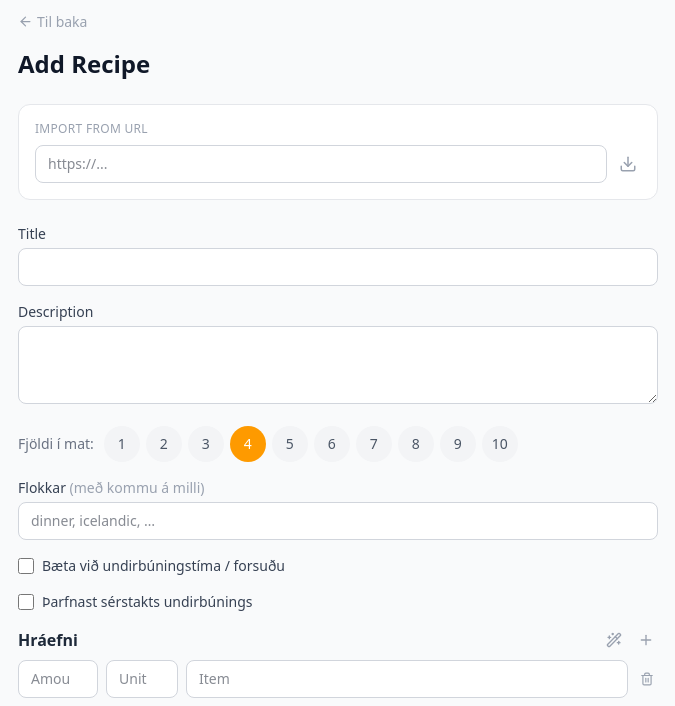
Scenario: AddRecipeForm › shows advance-prep note field when checkbox is checked
Click the checkbox labelled "Þarfnast sérstakts undirbúnings": (26,602) [18,594,34,610]
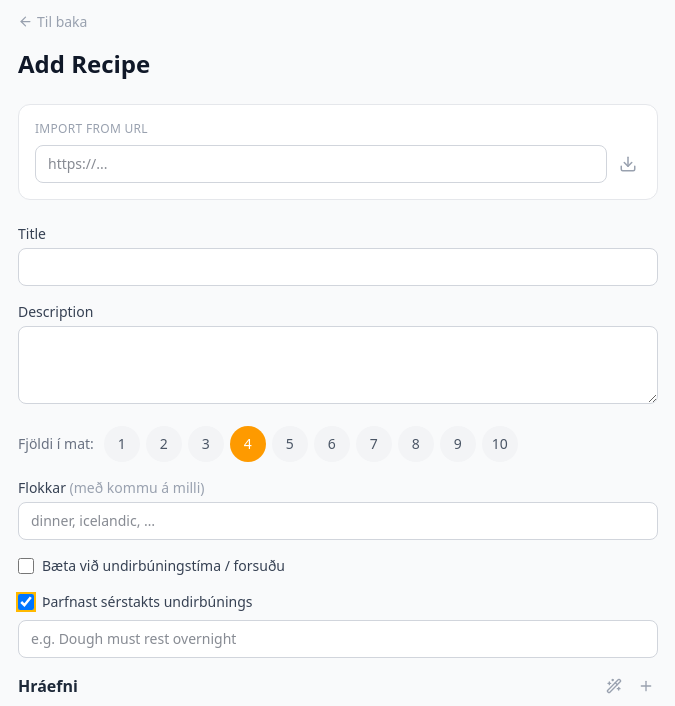
Check: the field with placeholder "e.g. Dough must rest overnight" is shown, box [18,620,658,658]
